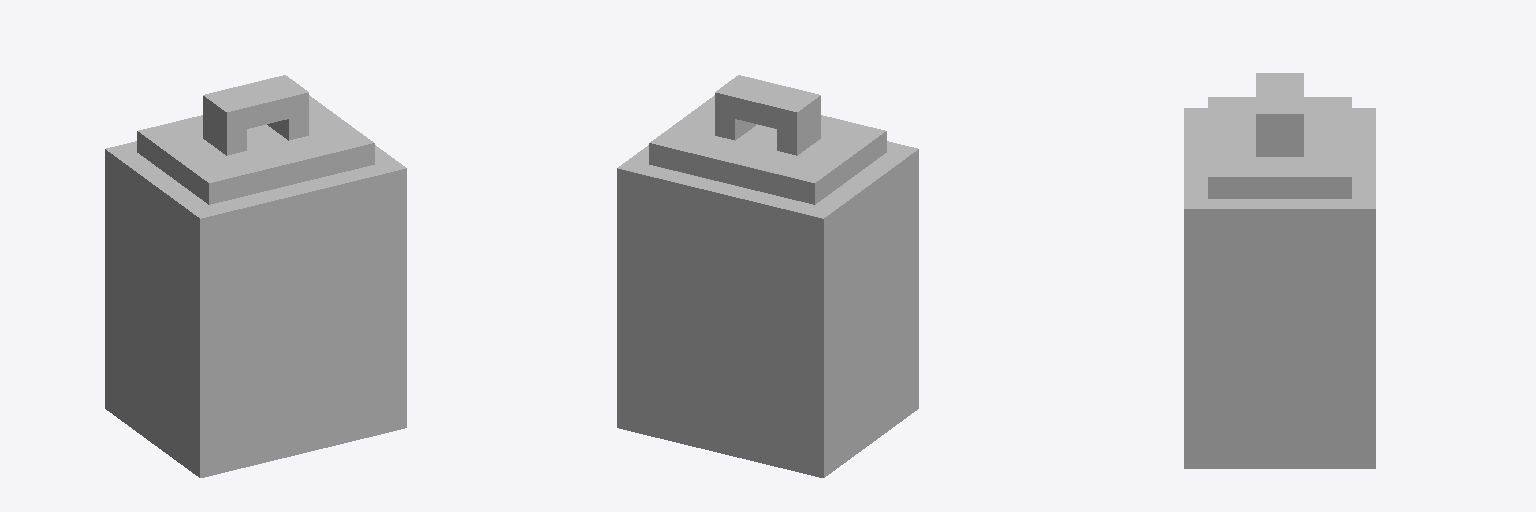
File: LuggagePink.obj
3 views of the same model, side by side, from view 1: azimuth 30°, elevation 25°; view 2: azimuth 150°, elevation 25°; view 3: azimuth 270°, elevation 25° (orthographic).
Visible parts, largest first — view 1: object 1; view 2: object 1; view 3: object 1.
Part boxes in pixels (left/top/right/bottom): object 1: left=105, top=75, right=406, bottom=477; object 1: left=617, top=75, right=918, bottom=477; object 1: left=1184, top=73, right=1375, bottom=468.
Bounding box in the file's own units: 1 × 1.5 × 0.8.